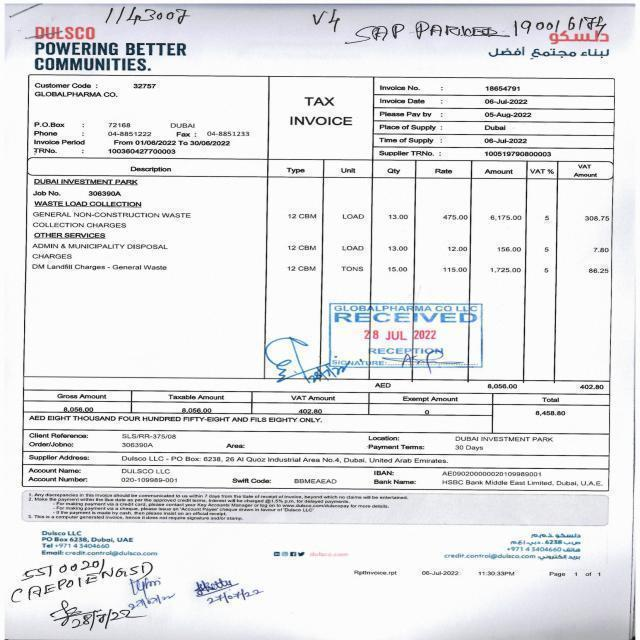paragraph: (256, 292, 612, 391), (23, 433, 604, 488), (7, 562, 263, 635), (303, 6, 617, 62), (373, 78, 557, 159), (21, 492, 410, 524), (31, 115, 258, 157), (28, 24, 195, 74), (438, 528, 586, 562), (349, 567, 605, 582), (39, 527, 161, 558), (33, 79, 160, 103), (285, 92, 356, 134), (100, 4, 190, 23), (262, 547, 355, 560)
table: (24, 162, 619, 286), (22, 393, 592, 429)
